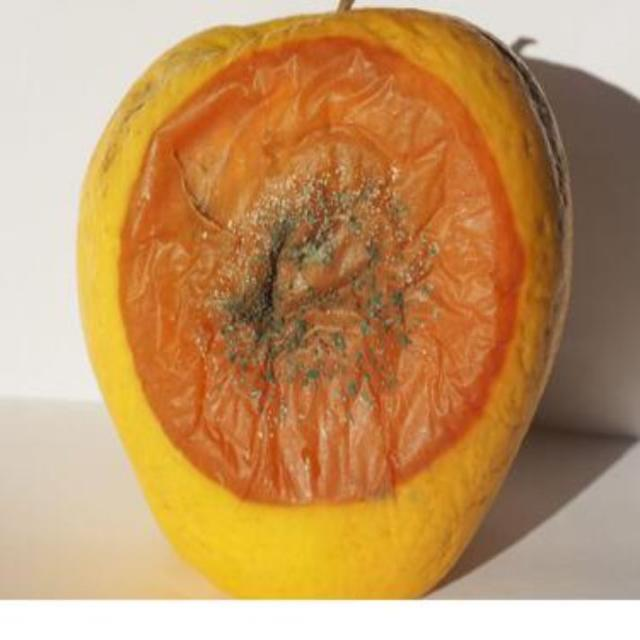Rotten Apple: (58, 12, 582, 578)
